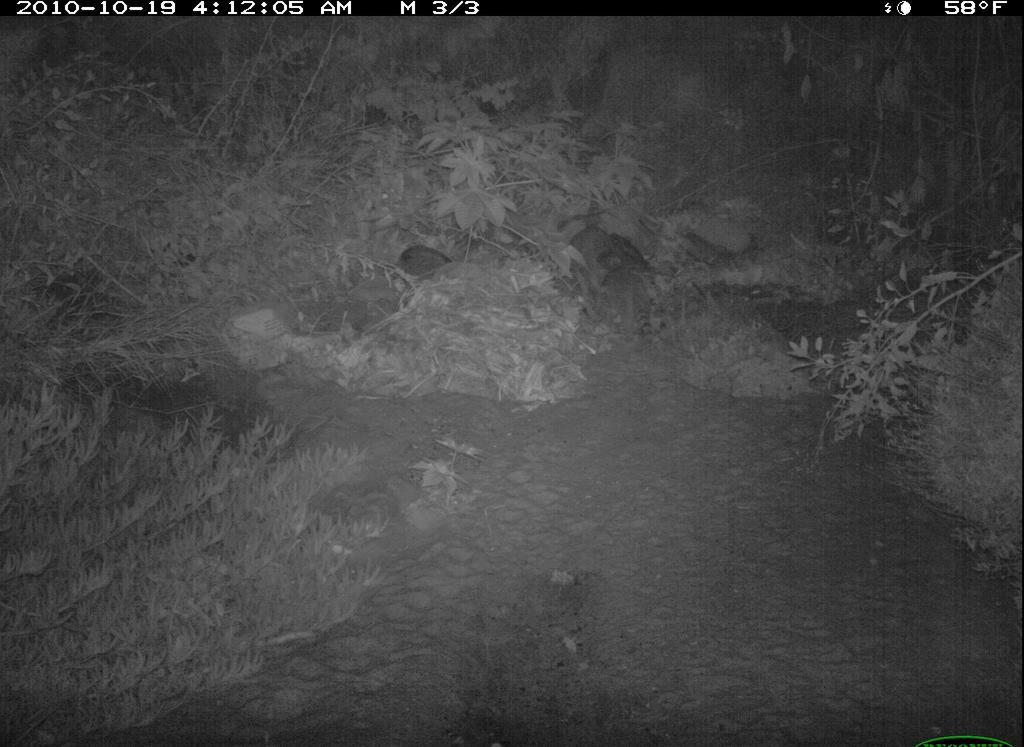raccoon: (602, 257, 665, 347)
